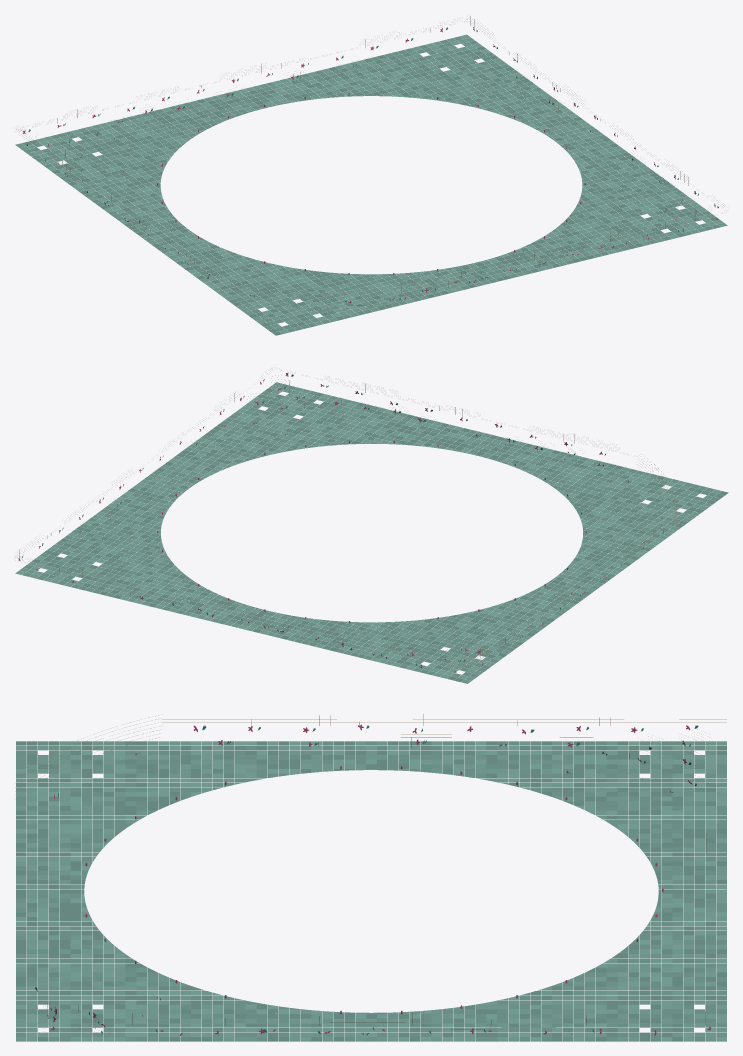
The model's file is bola_detalle.glb.
3 renders of one model, top to bottom at view 1: azimuth 30°, elevation 25°; view 2: azimuth 150°, elevation 25°; view 3: azimuth 270°, elevation 25°, orthographic. The views are drawn at different scales.
Parts seen in each view (by area): view 1: BG-GAR-E08_BOTANIC-1.6; view 2: BG-GAR-E08_BOTANIC-1.6; view 3: BG-GAR-E08_BOTANIC-1.6, BG-GAR-N01_BOTANIC-1.6, BG-FILL-O1_BOTANIC-1.6, BG-GAR-E01_BOTANIC-1.6.
Part boxes in pixels (bbox=[...]): BG-GAR-E08_BOTANIC-1.6: bbox=[15, 34, 727, 335]; BG-GAR-E08_BOTANIC-1.6: bbox=[15, 369, 728, 683]; BG-GAR-E08_BOTANIC-1.6: bbox=[16, 741, 726, 1041]; BG-GAR-N01_BOTANIC-1.6: bbox=[337, 714, 726, 866]; BG-FILL-O1_BOTANIC-1.6: bbox=[15, 714, 369, 866]; BG-GAR-E01_BOTANIC-1.6: bbox=[372, 888, 726, 1035].
Size of the model in its own units: 105 by 4.76 by 105.
